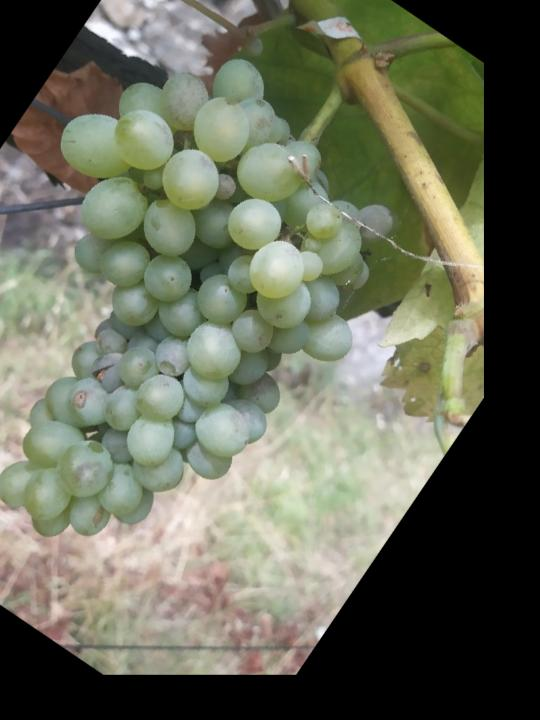grape: (0, 0, 451, 618)
